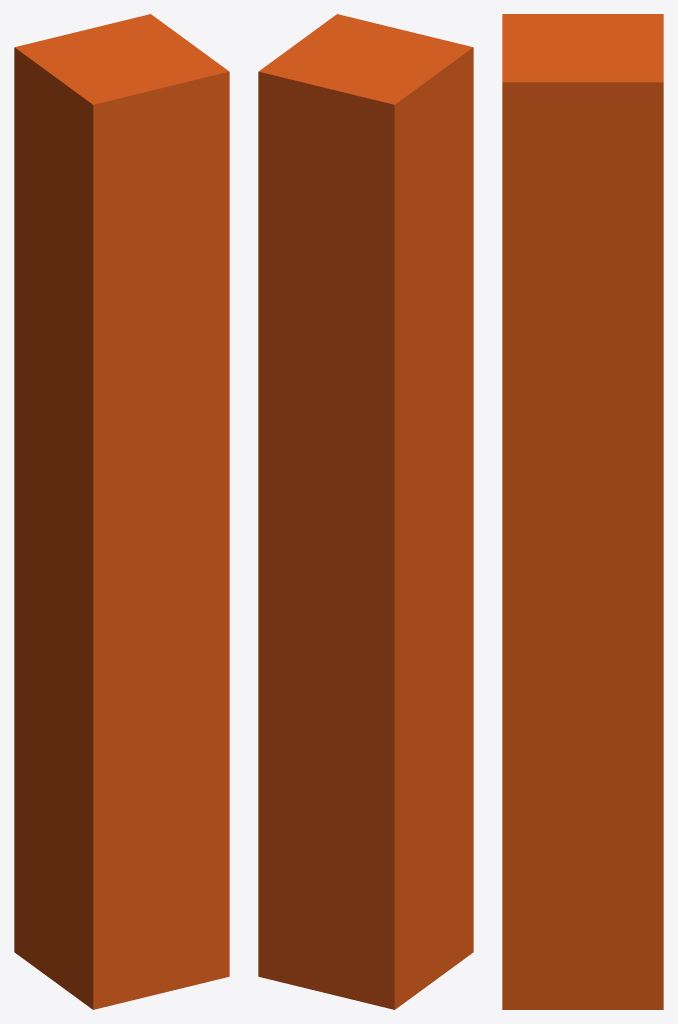
File: ocean_pillar.glb
3 renders of one model, left to right at view 1: azimuth 30°, elevation 25°; view 2: azimuth 150°, elevation 25°; view 3: azimuth 270°, elevation 25°, orthographic. The views are drawn at different scales.
Visible parts, largest first — view 1: pillar; view 2: pillar; view 3: pillar.
Part boxes in pixels (x1=…): pillar: x1=14, y1=14, x2=229, y2=1009; pillar: x1=258, y1=14, x2=473, y2=1009; pillar: x1=502, y1=14, x2=663, y2=1009.
Size of what is drawn, in the model's own units: 0.1116 by 0.708 by 0.1116.
